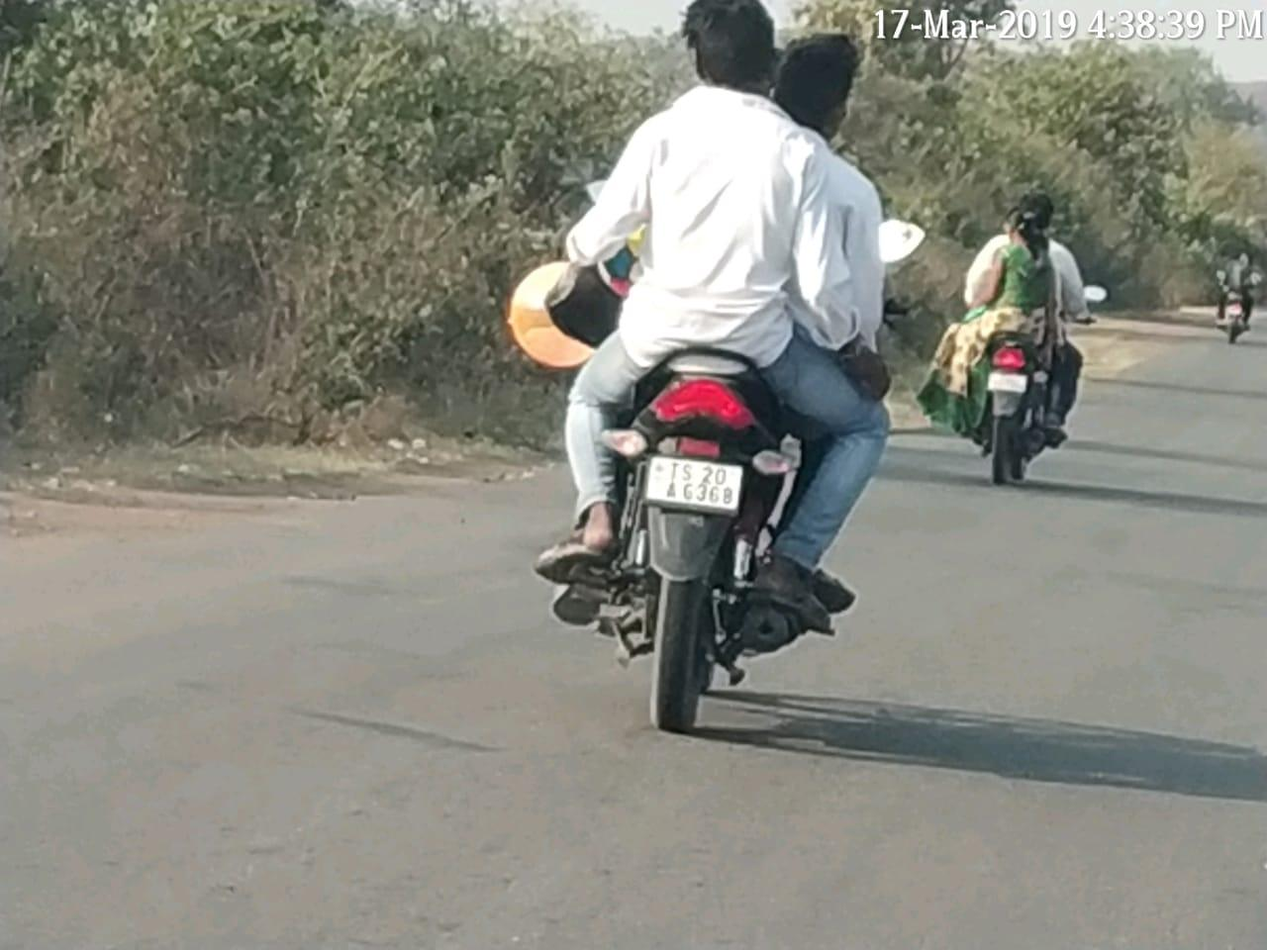plate: (640, 450, 749, 524), (982, 370, 1030, 398)
